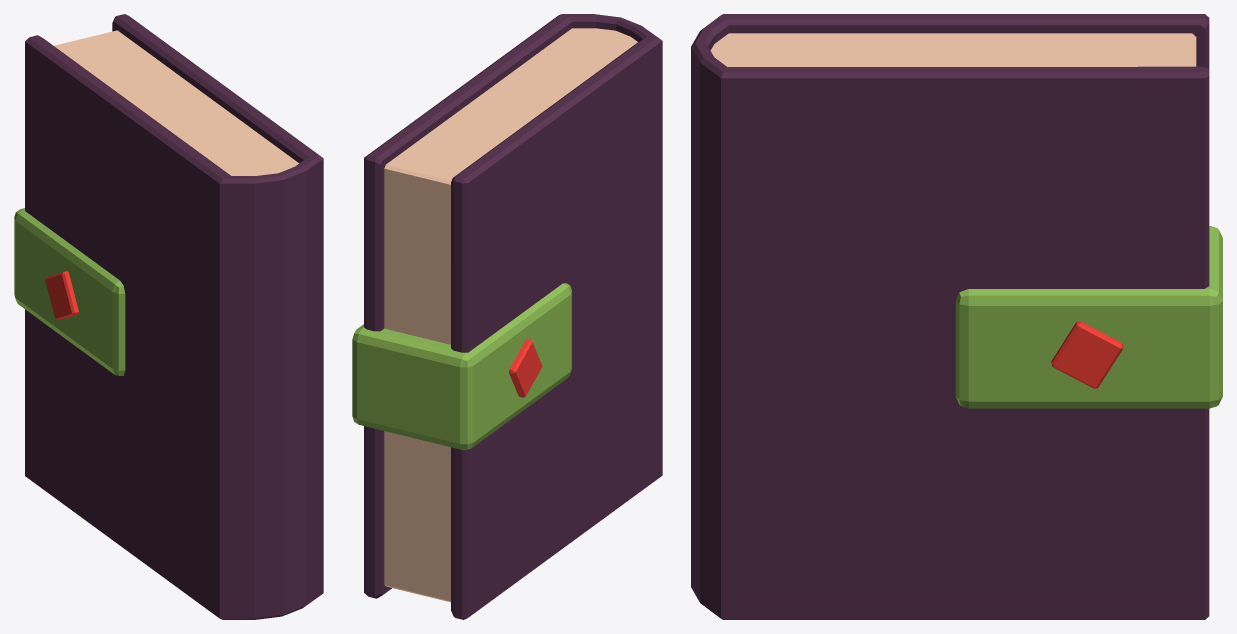
Rendered from book_9.fbx.
3 renders of one model, left to right at view 1: azimuth 30°, elevation 25°; view 2: azimuth 150°, elevation 25°; view 3: azimuth 270°, elevation 25°, orthographic. The views are drawn at different scales.
Parts seen in each view (by area): view 1: book_9; view 2: book_9; view 3: book_9.
Boxes of the visible parts, x1,y1,x2,y2 form: book_9: [14, 14, 323, 619]; book_9: [352, 14, 662, 619]; book_9: [691, 14, 1222, 619].
Bounding box in the file's own units: 0.3418 × 1.09 × 0.957.
